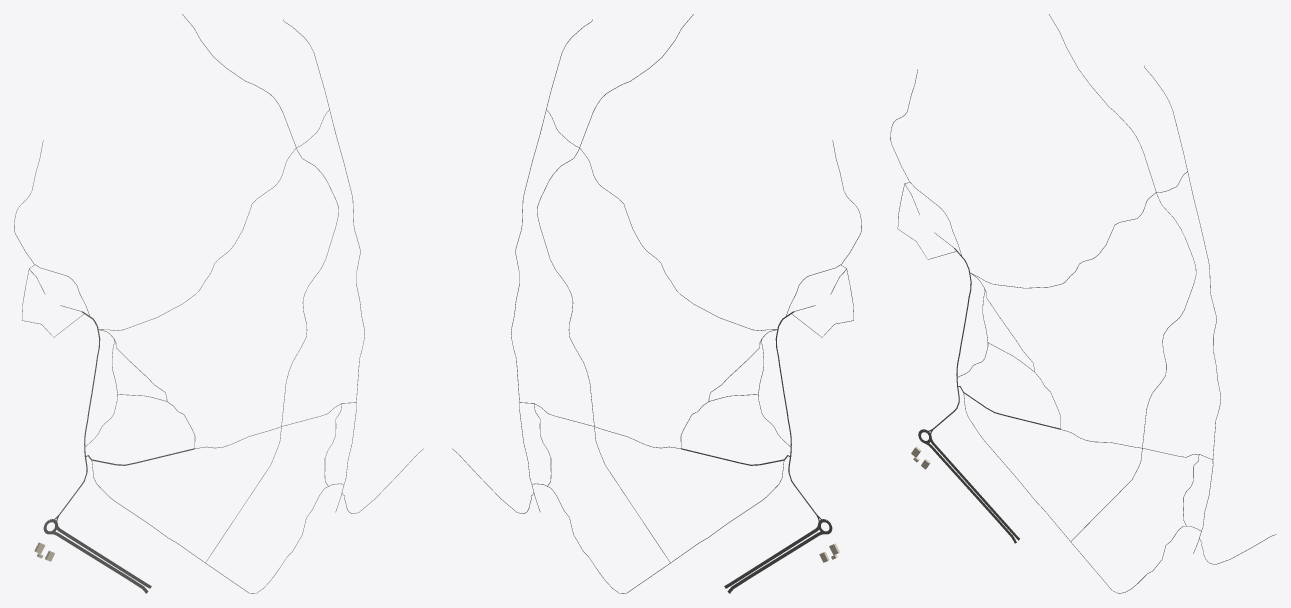
Rendered from historic-palestine-06_18_3482_3126.glb.
3 renders of one model, left to right at view 1: azimuth 30°, elevation 25°; view 2: azimuth 150°, elevation 25°; view 3: azimuth 330°, elevation 25°, orthographic. The views are drawn at different scales.
Parts seen in each view (by area): view 1: Road .004; view 2: Road .004; view 3: Road .004.
Boxes of the visible parts, <box> form: Road .004: <box>182,14,338,562</box>; Road .004: <box>537,14,693,562</box>; Road .004: <box>1049,14,1196,541</box>.
Size of the model in its own units: 1146 by 1597 by 8.7.
